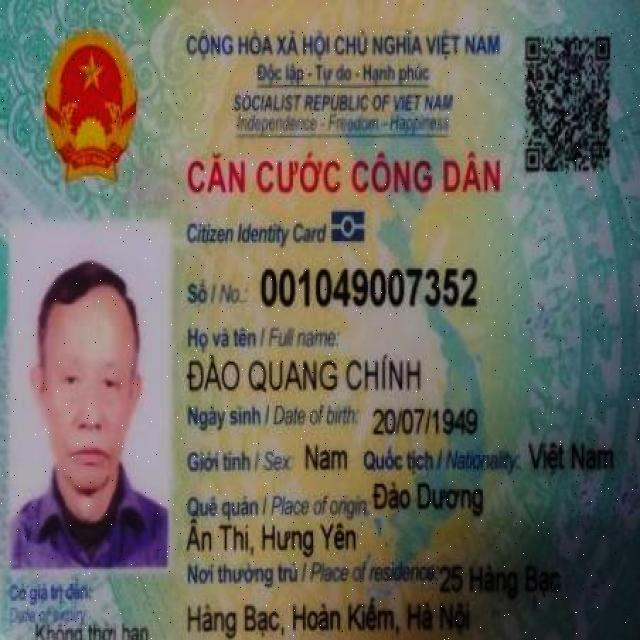current_place: (186, 600, 473, 640), (437, 560, 566, 600)
dob: (370, 407, 481, 436)
expire_date: (33, 619, 154, 640)
gender: (303, 442, 352, 473)
id: (257, 265, 481, 311)
name: (186, 353, 424, 394)
nationality: (525, 440, 619, 477)
origin_place: (185, 518, 359, 559), (370, 480, 487, 517)
